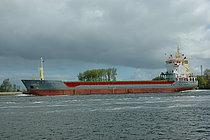Ship: (17, 55, 205, 98)
